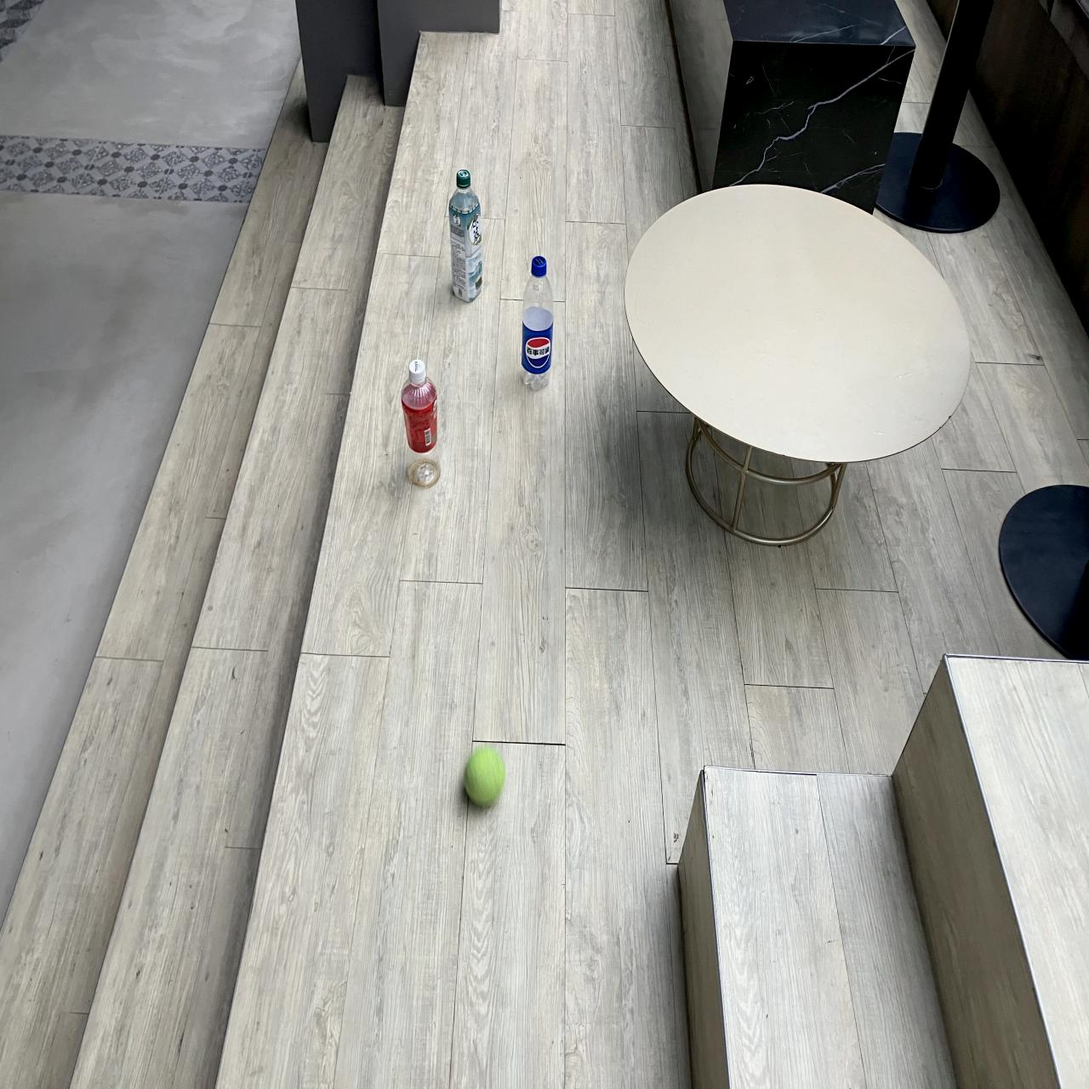plastic-bottle: (449, 170, 482, 300), (523, 256, 554, 390), (402, 360, 437, 454)
tennisball: (465, 747, 505, 807)
